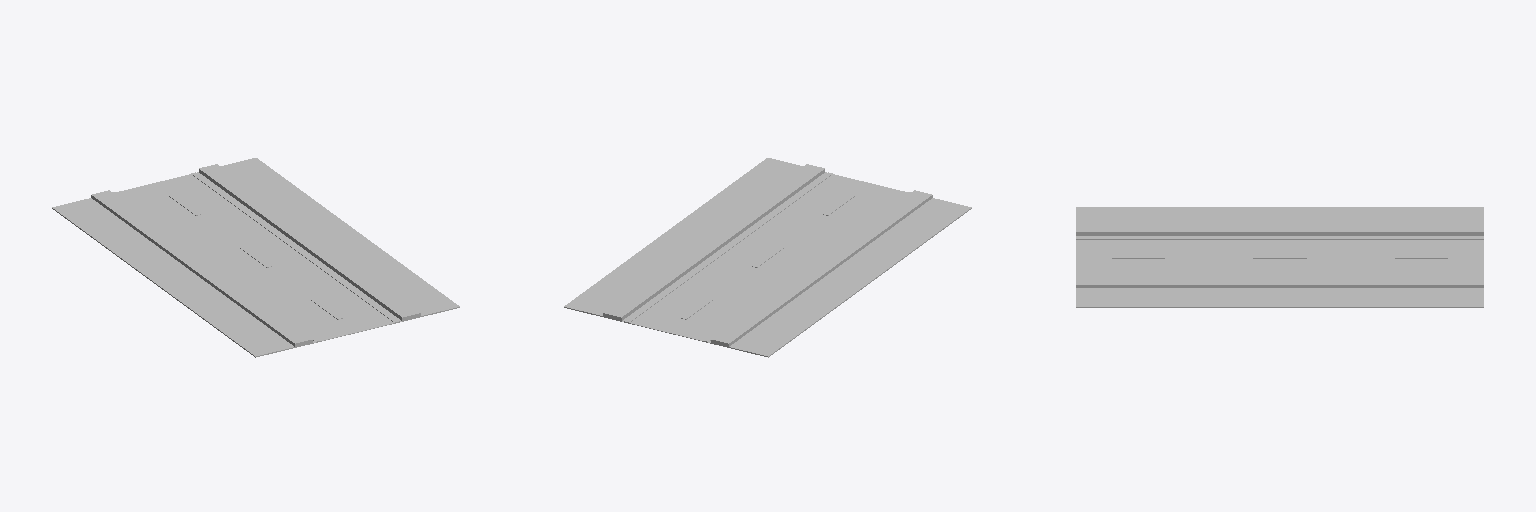
Rendered from road.obj.
The picture shows the model from 3 angles: view 1: azimuth 30°, elevation 25°; view 2: azimuth 150°, elevation 25°; view 3: azimuth 270°, elevation 25°; orthographic projection.
Parts seen in each view (by area): view 1: Mesh_0, Mesh_1, Mesh_3, Mesh_4; view 2: Mesh_0, Mesh_1, Mesh_3, Mesh_4; view 3: Mesh_0, Mesh_1, Mesh_3, Mesh_4.
Part boxes in pixels (x1,y1,x2,y2): Mesh_0: (52, 158, 459, 357); Mesh_1: (119, 172, 420, 347); Mesh_3: (91, 164, 419, 346); Mesh_4: (113, 172, 398, 341); Mesh_0: (564, 158, 971, 357); Mesh_1: (622, 172, 904, 342); Mesh_3: (604, 164, 932, 346); Mesh_4: (625, 172, 910, 341); Mesh_0: (1076, 207, 1483, 307); Mesh_1: (1076, 236, 1483, 274); Mesh_3: (1076, 223, 1483, 287); Mesh_4: (1076, 237, 1483, 275).
Size of the model in its own units: 2 by 0.04 by 3.45.